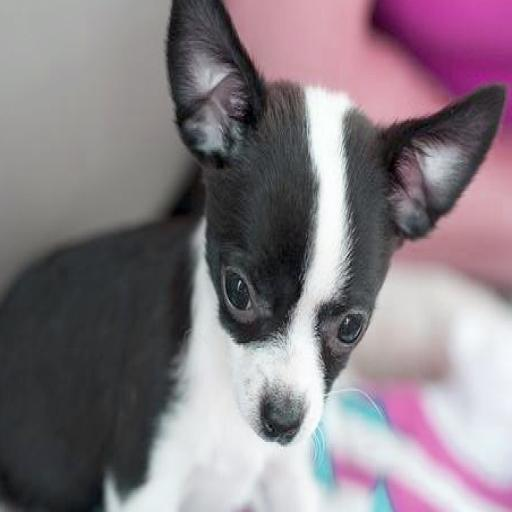dog_face: (163, 0, 502, 442)
